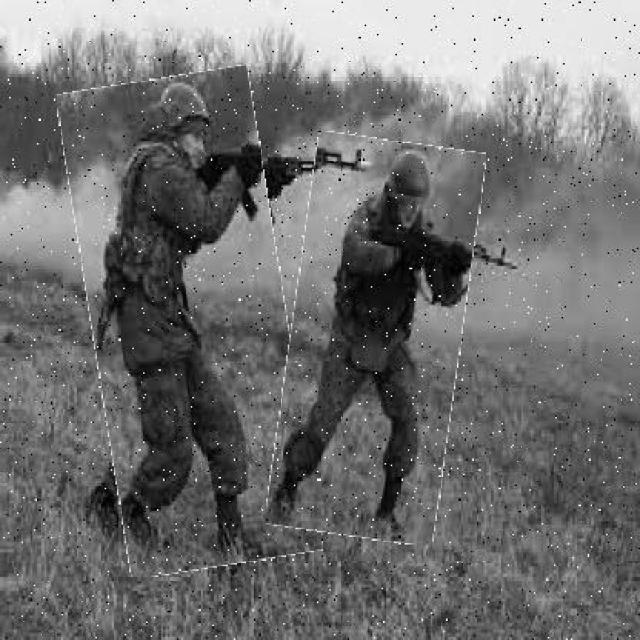Person: (75, 72, 306, 575), (278, 137, 475, 543)
